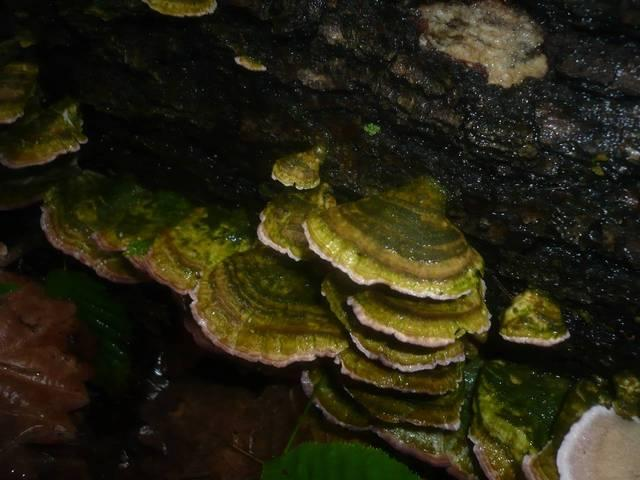poisonous_mushroom: (14, 90, 515, 448), (497, 285, 571, 348)
